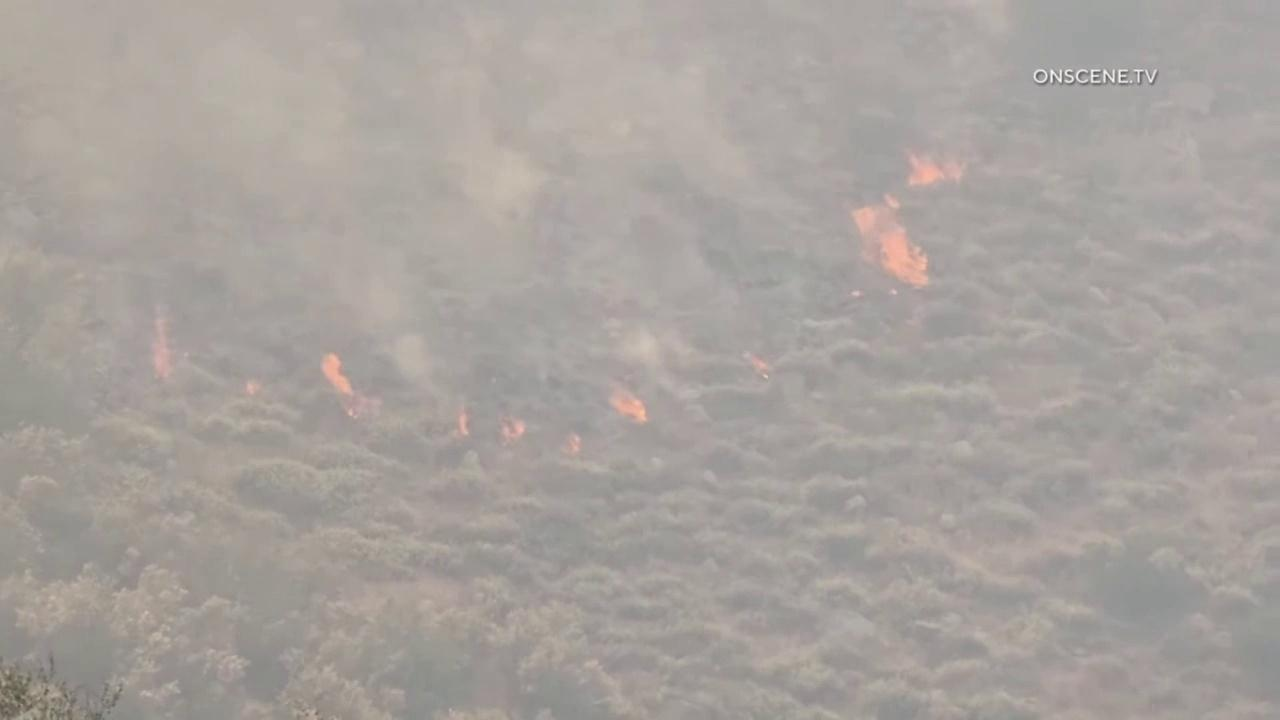fire: (849, 192, 931, 297), (318, 347, 385, 421), (147, 309, 184, 382), (901, 149, 966, 188), (605, 392, 649, 424), (497, 412, 525, 444), (559, 432, 585, 458), (748, 353, 774, 379), (454, 411, 473, 438), (244, 380, 261, 398)
smoke: (0, 0, 1280, 720)
